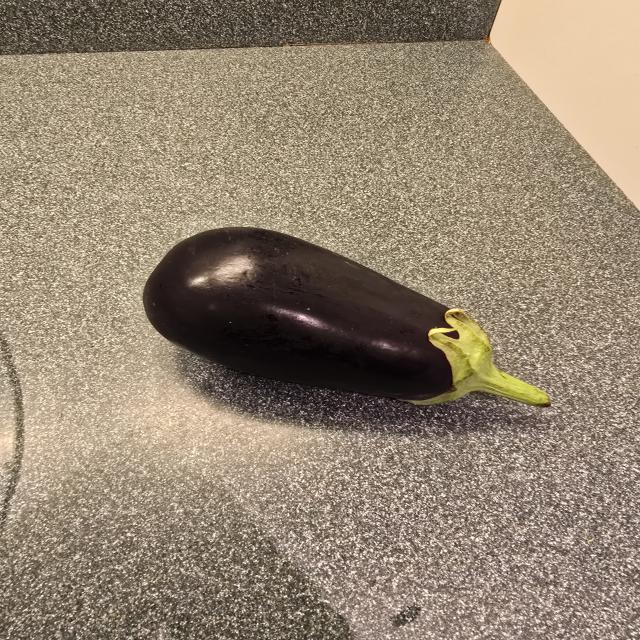Eggplant: (133, 216, 560, 414)
